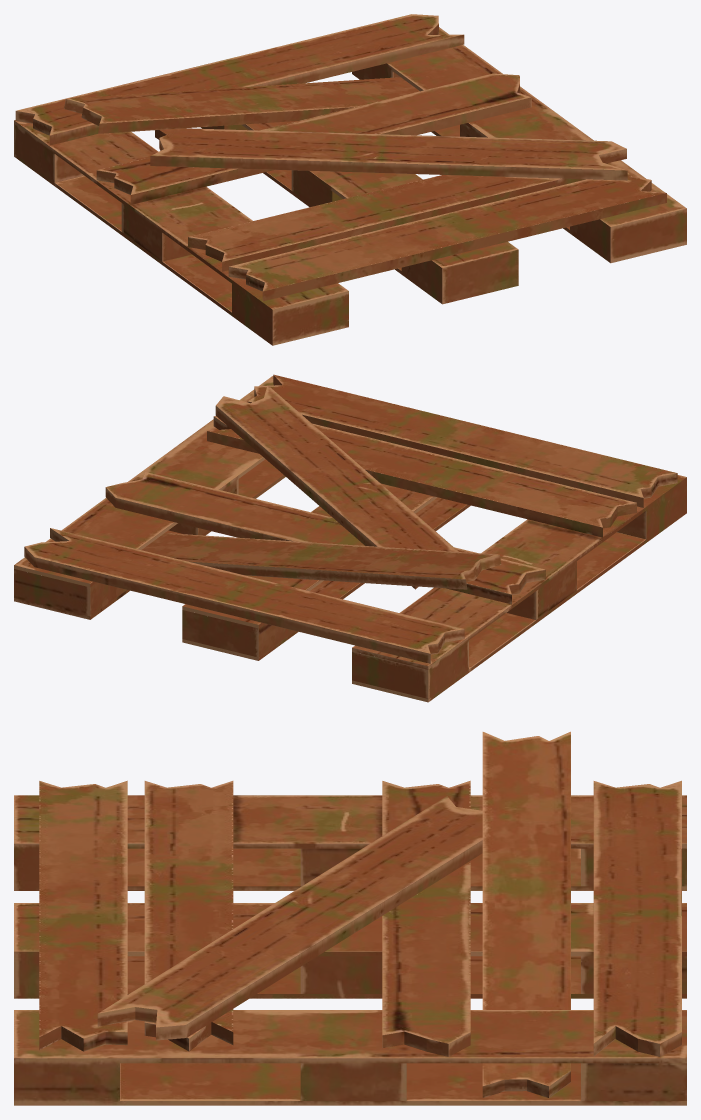
Rendered from Old_Pallet.glb.
3 views of the same model, one above another, from view 1: azimuth 30°, elevation 25°; view 2: azimuth 150°, elevation 25°; view 3: azimuth 270°, elevation 25° (orthographic). The views are drawn at different scales.
Parts seen in each view (by area): view 1: Old_Pallet; view 2: Old_Pallet; view 3: Old_Pallet.
Part boxes in pixels (<box>): Old_Pallet: <box>14,14,686,345</box>; Old_Pallet: <box>14,374,686,702</box>; Old_Pallet: <box>14,731,686,1105</box>.
Size of the model in its own units: 1.92 by 0.3913 by 2.07.
Materials: 1 (1 with a texture image).
